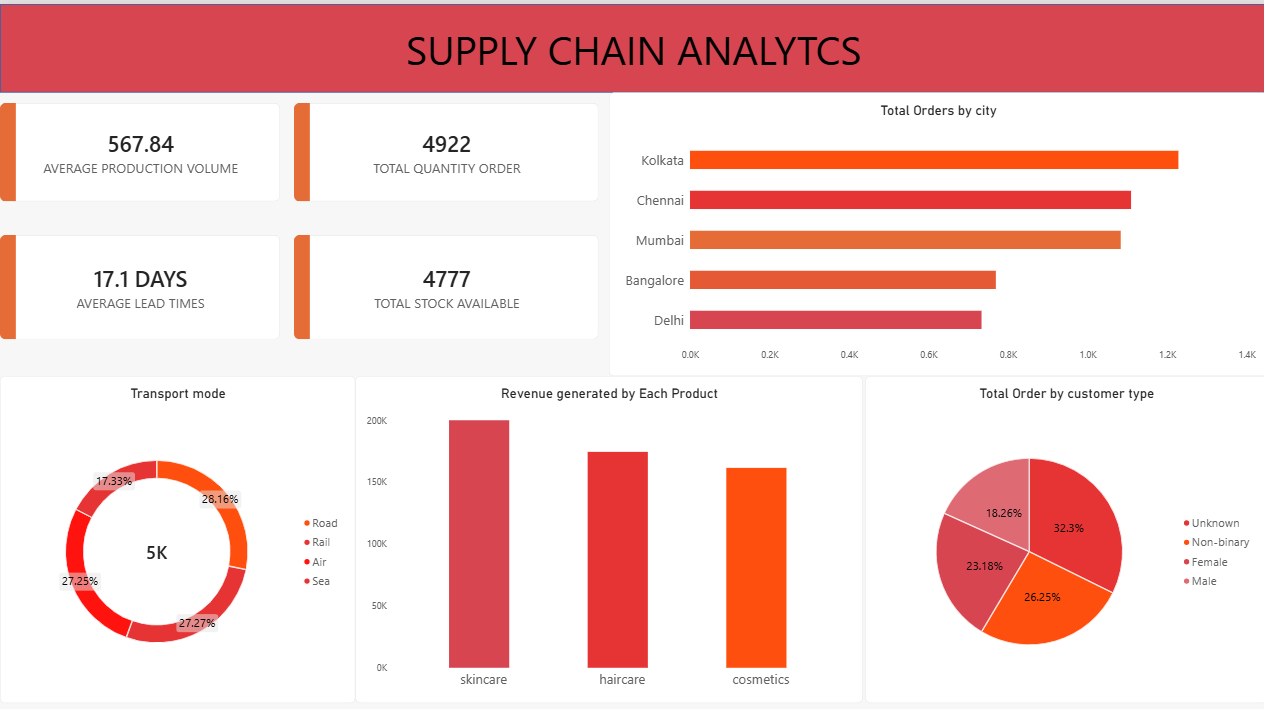

The dashboard page shown, as its layout file describes it:
{"tool":"powerbi","page":{"name":"Page 1","canvas":[1920,1080],"ordinal":0},"visuals":[{"type":"shape","box":[0,0,1919.3,134],"z":0},{"type":"clusteredColumnChart","fields":{"Y":["Sum(supply_chain_data.Revenue generated)"],"Category":["supply_chain_data.Product type"]},"box":[538.3,563.3,767.7,495.1],"z":1000},{"type":"pieChart","title":" Total Order by customer type","fields":{"Category":["supply_chain_data.Customer demographics"],"Y":["Sum(supply_chain_data.Order quantities)"]},"box":[1310.5,563.3,608.7,495.1],"z":2000},{"type":"clusteredBarChart","title":"Total Orders by city","fields":{"Category":["supply_chain_data.Location"],"Y":["Sum(supply_chain_data.Order quantities)"]},"box":[922.2,134,997.1,429.3],"z":3000},{"type":"donutChart","title":"Transport mode","fields":{"Category":["supply_chain_data.Transportation modes"],"Y":["Sum(supply_chain_data.Order quantities)"]},"box":[0,563.3,538.3,495.1],"z":4000},{"type":"cardVisual","fields":{"Data":["supply_chain_data.TOTAL QUANTITY ORDER"]},"box":[445.2,149.9,461.1,149.9],"z":5000},{"type":"cardVisual","fields":{"Data":["supply_chain_data.TOTAL STOCK AVAILABLE"]},"box":[445.2,349.8,461.1,159],"z":6000},{"type":"cardVisual","fields":{"Data":["supply_chain_data.AVERAGE DEFECTS RATE"]},"box":[0,149.9,424.7,149.9],"z":7000},{"type":"cardVisual","fields":{"Data":["supply_chain_data.AVERAGE LEAD TIMES"]},"box":[0,349.8,424.7,159],"z":8000}]}

Visuals, with their boxes in screenshot pixels (x1, y1, x2, y2), scaled from the page's 1920x1080 canvas onto the 1264x709 screenshot:
shape: Rect(0, 0, 1263, 88)
clusteredColumnChart - Sum(supply_chain_data.Revenue generated) x supply_chain_data.Product type: Rect(354, 370, 860, 695)
" Total Order by customer type" pieChart: Rect(863, 370, 1263, 695)
"Total Orders by city" clusteredBarChart: Rect(607, 88, 1263, 370)
"Transport mode" donutChart: Rect(0, 370, 354, 695)
cardVisual - supply_chain_data.TOTAL QUANTITY ORDER: Rect(293, 98, 597, 197)
cardVisual - supply_chain_data.TOTAL STOCK AVAILABLE: Rect(293, 230, 597, 334)
cardVisual - supply_chain_data.AVERAGE DEFECTS RATE: Rect(0, 98, 280, 197)
cardVisual - supply_chain_data.AVERAGE LEAD TIMES: Rect(0, 230, 280, 334)
